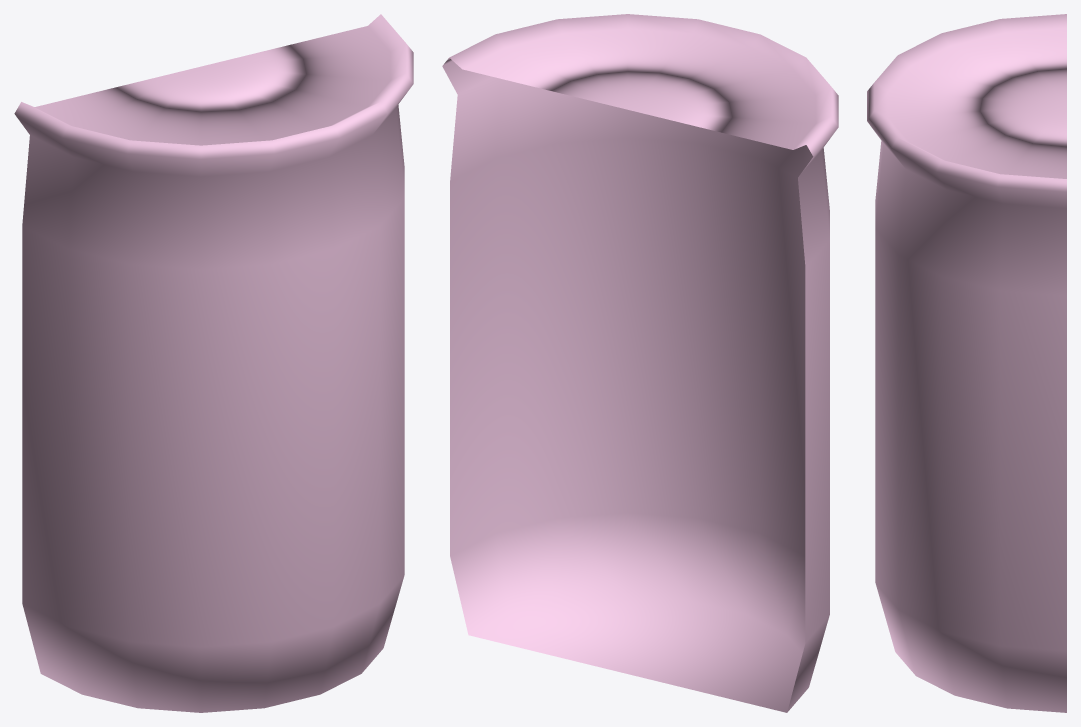
File: barrel_high_3.dae
3 views of the same model, side by side, from view 1: azimuth 30°, elevation 25°; view 2: azimuth 150°, elevation 25°; view 3: azimuth 270°, elevation 25° (orthographic). The views are drawn at different scales.
Visible parts, largest first — view 1: Plane; view 2: Plane; view 3: Plane.
Part boxes in pixels (x1,y1,x2,y2): Plane: (14, 14, 413, 712); Plane: (442, 14, 838, 712); Plane: (867, 14, 1066, 712).
Bounding box in the file's own units: 0.6056 × 0.2982 × 0.8934.
